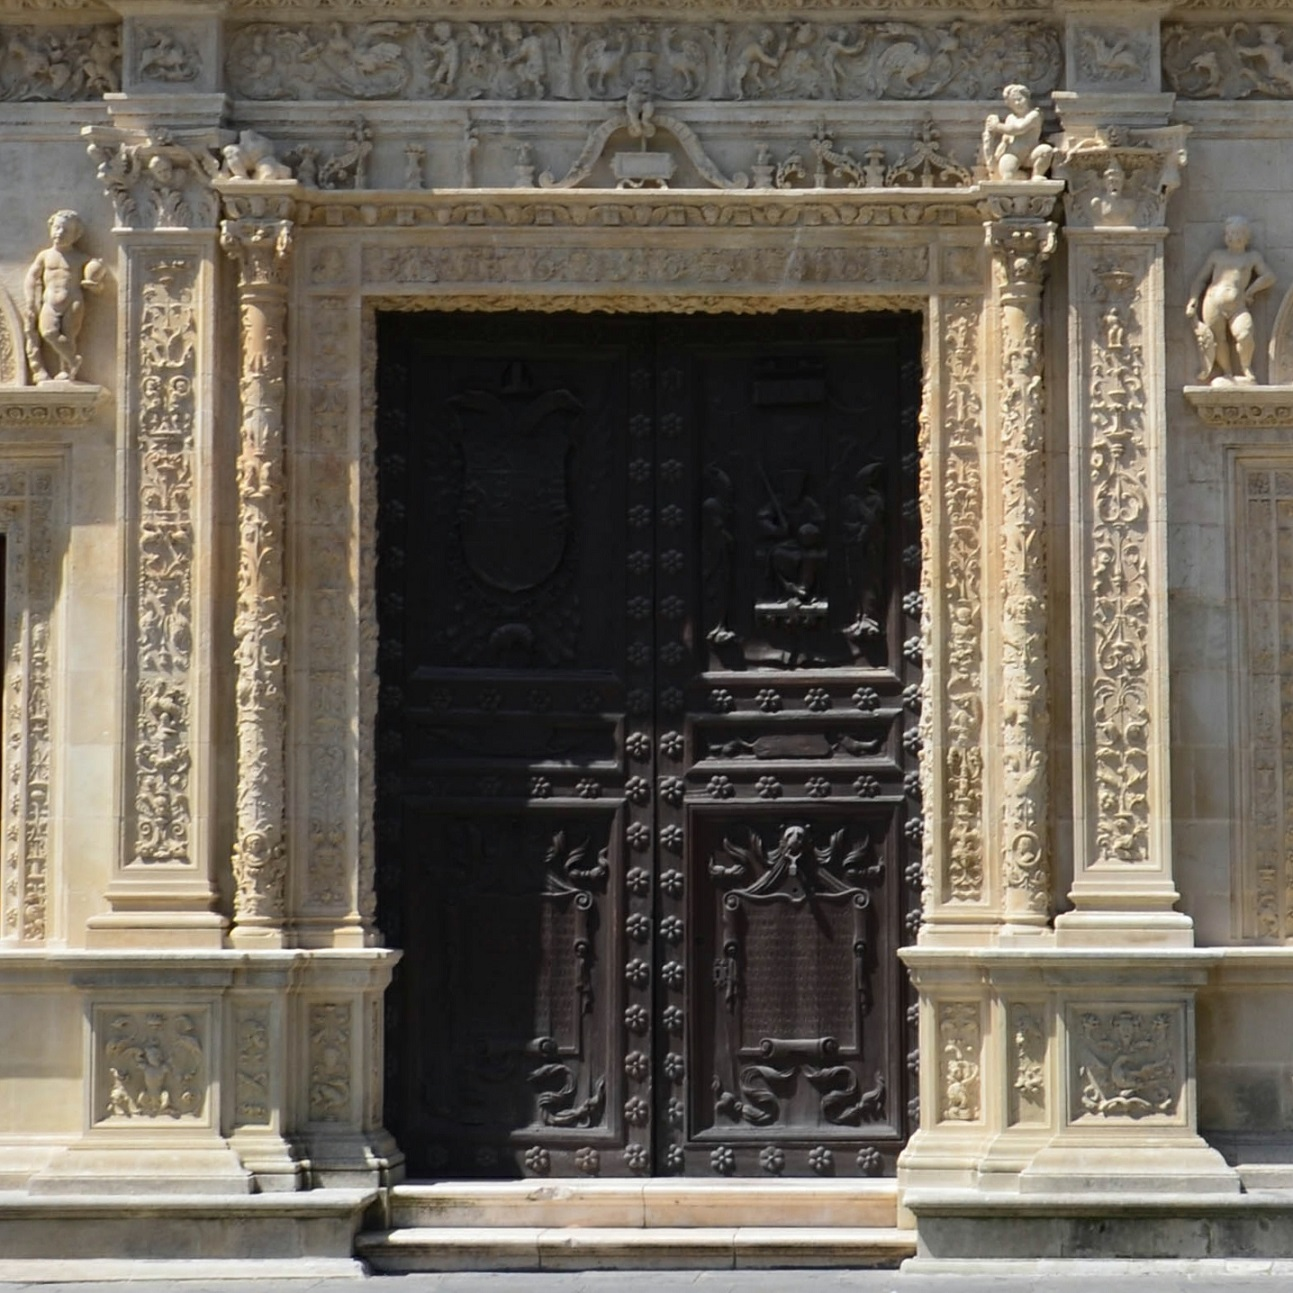vano-adintelado: (266, 202, 997, 1189)
